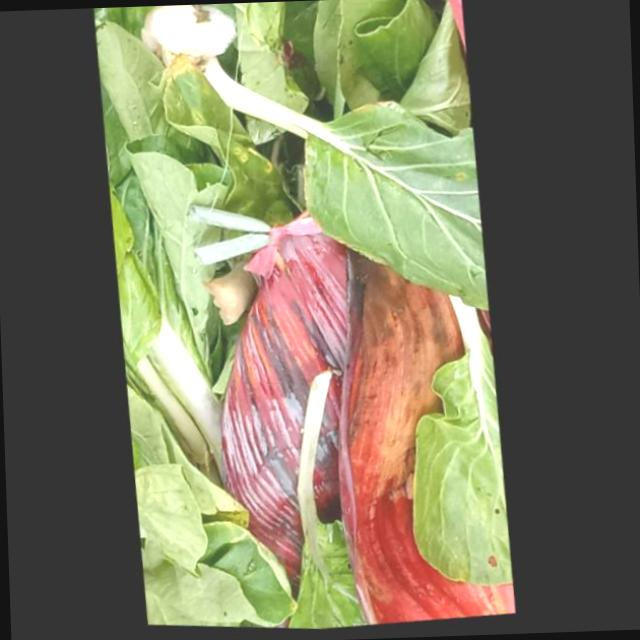vo_rau_cu: (203, 63, 492, 314), (344, 252, 522, 627), (100, 82, 227, 492), (95, 27, 231, 391), (226, 216, 351, 606), (418, 301, 519, 589), (139, 457, 304, 631), (167, 75, 309, 232), (313, 0, 473, 138), (231, 0, 336, 125), (140, 4, 236, 74), (93, 3, 235, 35)
